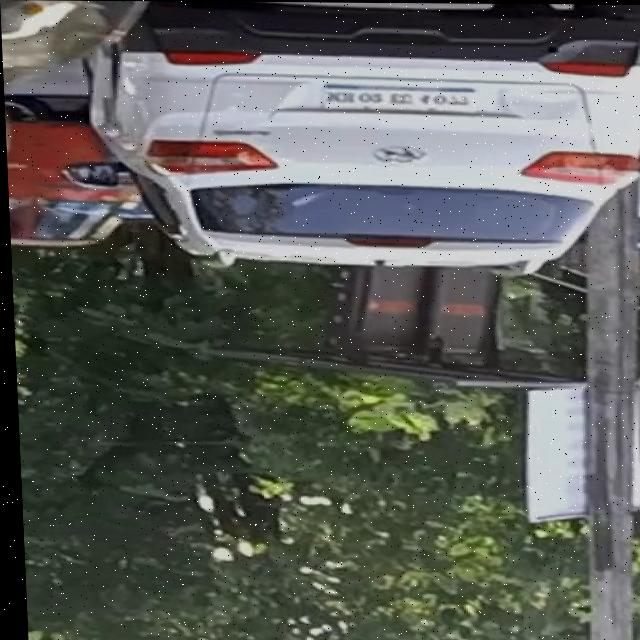plate: (315, 86, 478, 113)
